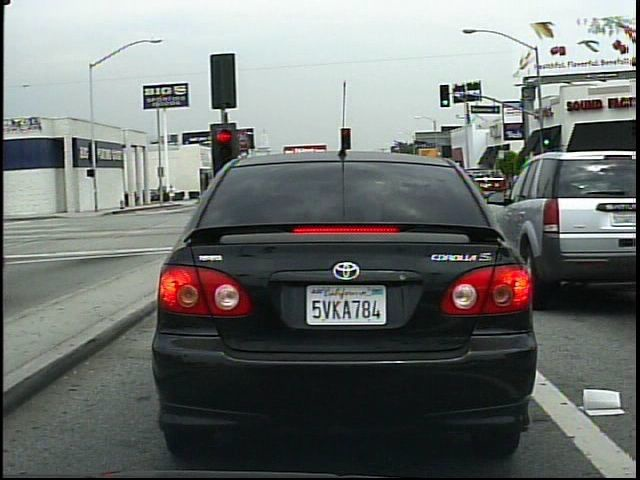person: (516, 166, 532, 198), (166, 180, 179, 207)
